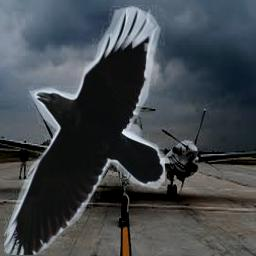Crow: (4, 5, 165, 255)
